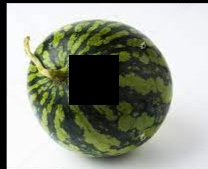watermelon: (20, 20, 171, 159)
